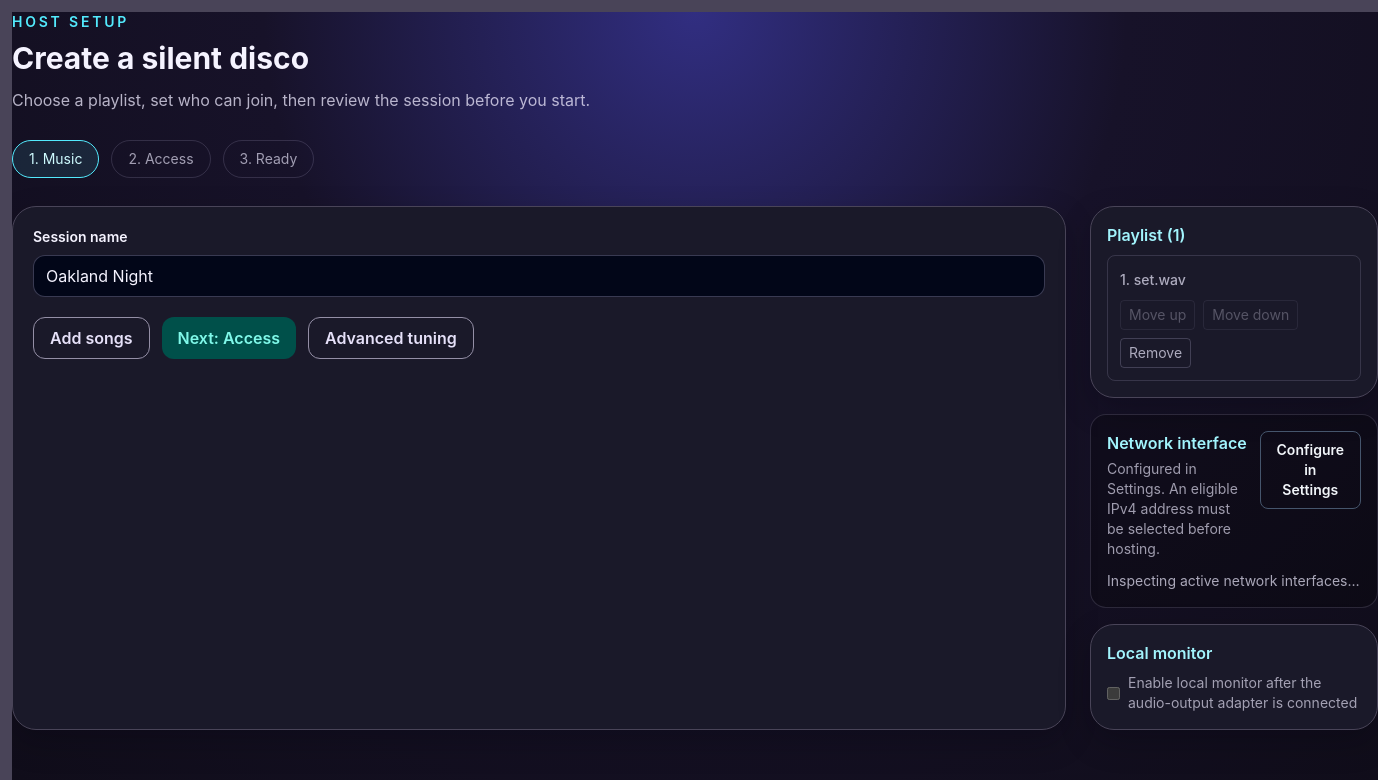
Test: HostSetupScreen › disables unverified approved-only admission and remembered identities on plaintext v3
This screenshot has width=1378, height=780.
Click the button "Next: Access".
click(229, 338)  # box [162, 317, 296, 359]
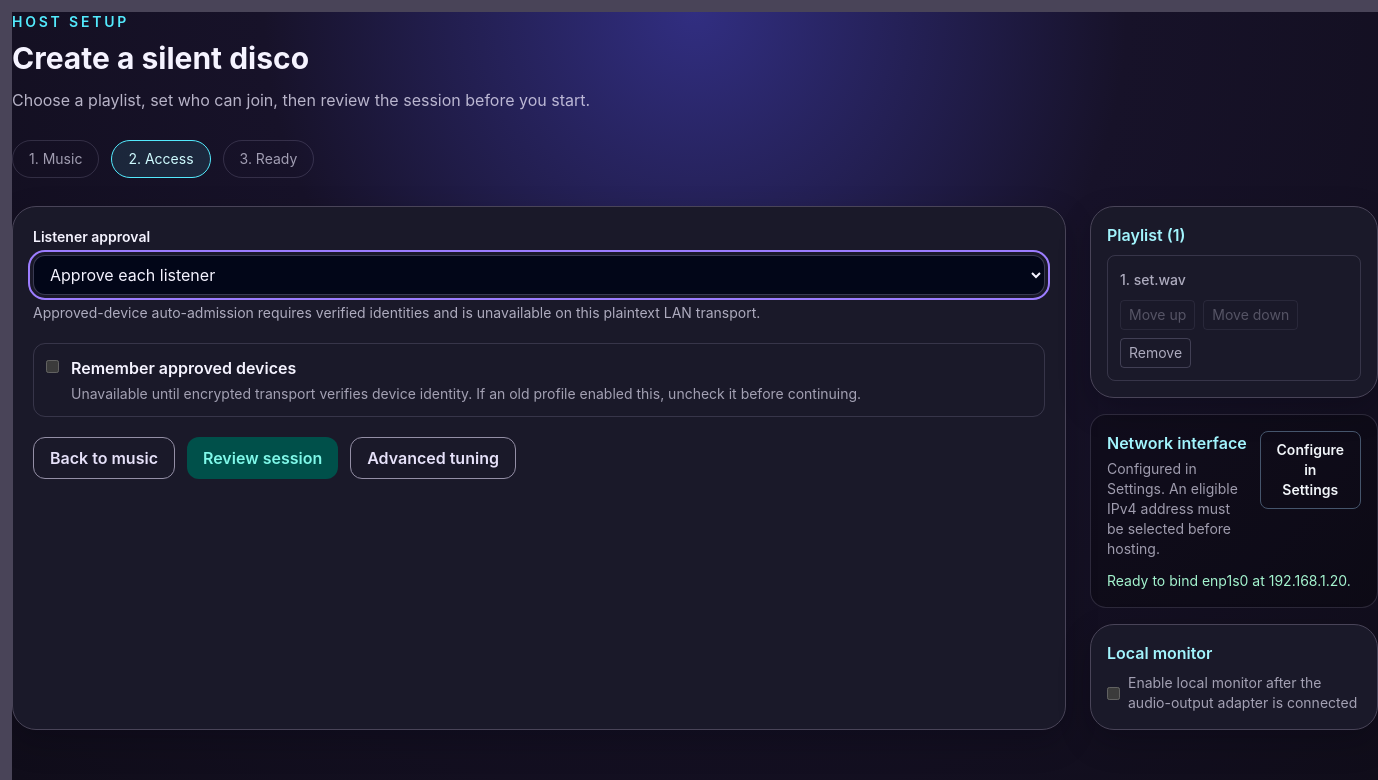
Now the checkbox labelled "Remember approved devices" is disabled, box [46, 360, 59, 373]
Now the text "Approved-device auto-admission requires verified identities" is shown, box [33, 304, 760, 321]
